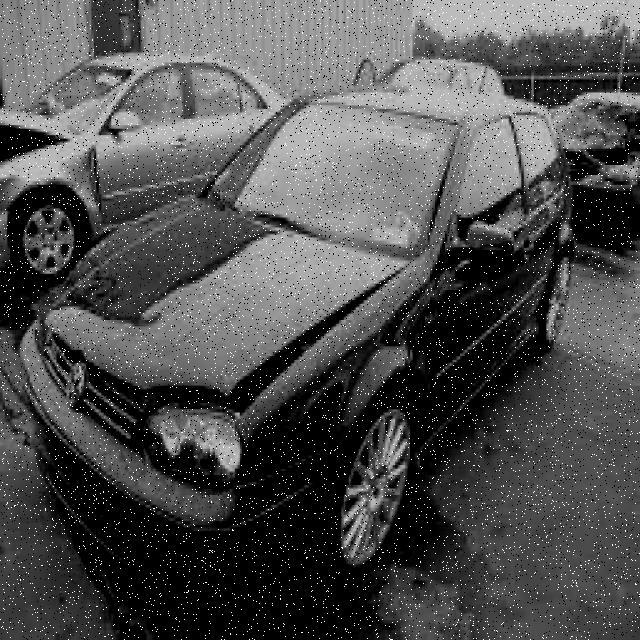car damage: (29, 269, 399, 417)
